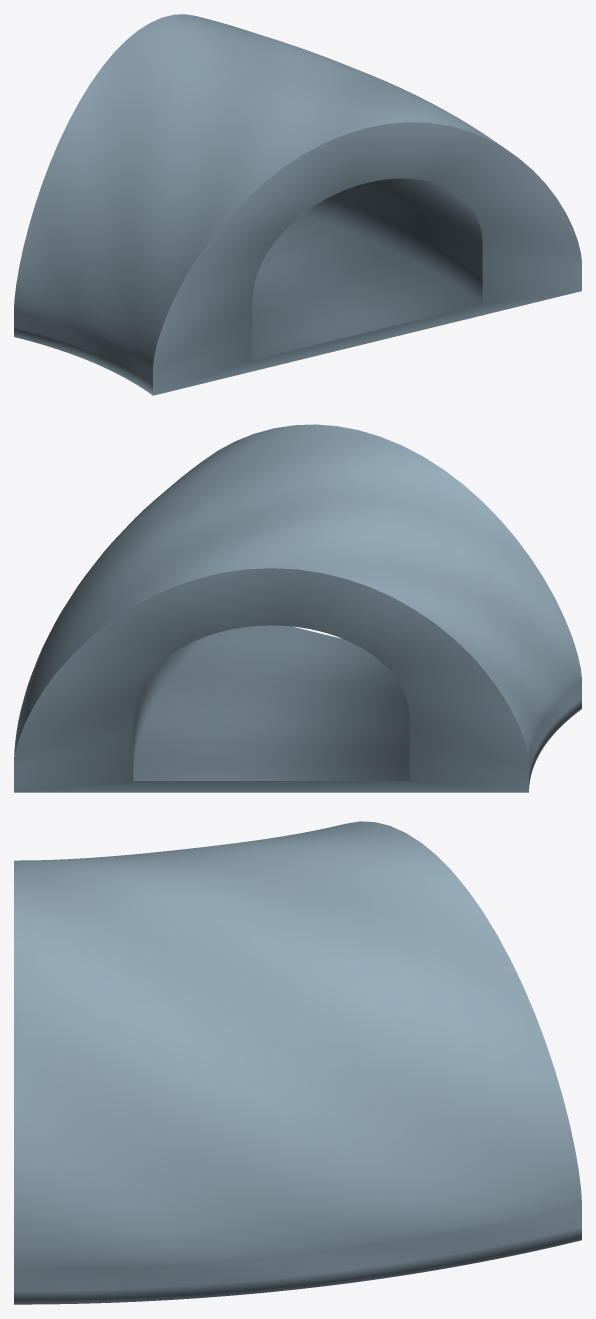
The model's file is curve_left_30_terrain.glb.
3 views of the same model, one above another, from view 1: azimuth 30°, elevation 25°; view 2: azimuth 150°, elevation 25°; view 3: azimuth 270°, elevation 25° (orthographic). The views are drawn at different scales.
Visible parts, largest first — view 1: TerrainRoof.006; view 2: TerrainRoof.006; view 3: TerrainRoof.006.
Part boxes in pixels (x1,y1,x2,y2): TerrainRoof.006: (14,14,581,395); TerrainRoof.006: (14,424,581,792); TerrainRoof.006: (14,821,581,1304).
Size of the model in its own units: 31.32 by 13.65 by 25.1.
